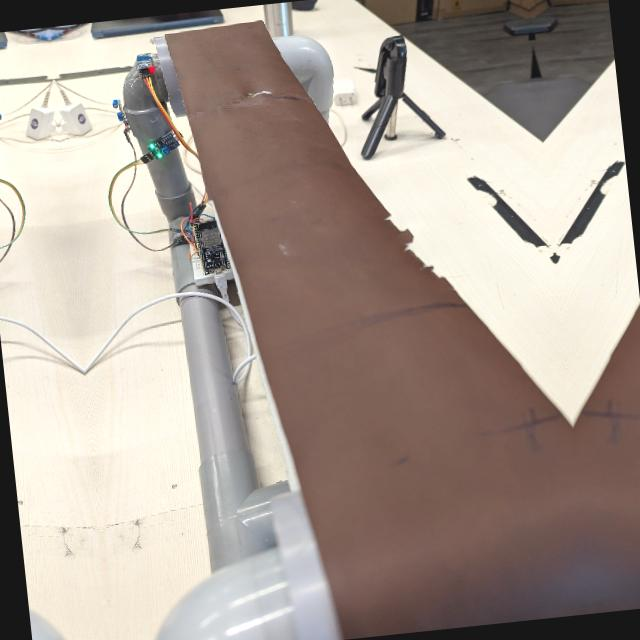edge_damage: (368, 195, 460, 301)
joint_damage: (229, 78, 292, 113)
